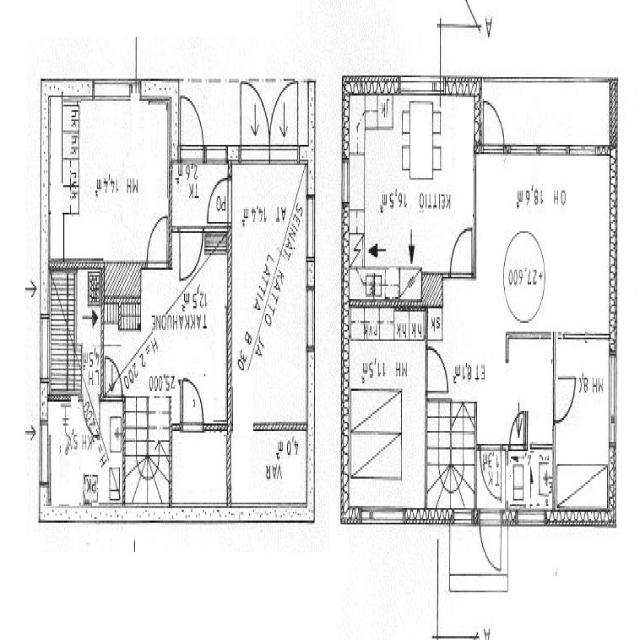door: (177, 88, 206, 161), (178, 370, 207, 433), (478, 505, 504, 575), (447, 220, 476, 281), (478, 441, 506, 503), (178, 224, 206, 284), (144, 209, 170, 270), (482, 96, 506, 155), (425, 341, 450, 397), (552, 372, 578, 424), (102, 349, 124, 398), (508, 408, 528, 452)
window: (592, 345, 620, 446), (358, 501, 407, 534), (91, 75, 135, 104), (606, 347, 620, 438), (304, 279, 317, 352), (399, 71, 436, 96), (516, 507, 547, 533), (507, 137, 540, 160), (448, 506, 474, 530), (339, 153, 350, 204)
zone: (349, 94, 474, 291), (494, 150, 614, 334), (230, 156, 310, 431), (52, 93, 172, 262), (344, 298, 428, 514), (142, 240, 229, 412), (42, 397, 125, 513), (554, 336, 614, 495), (47, 267, 102, 394), (230, 426, 310, 510), (170, 424, 229, 510), (583, 343, 615, 448), (507, 449, 554, 520)
